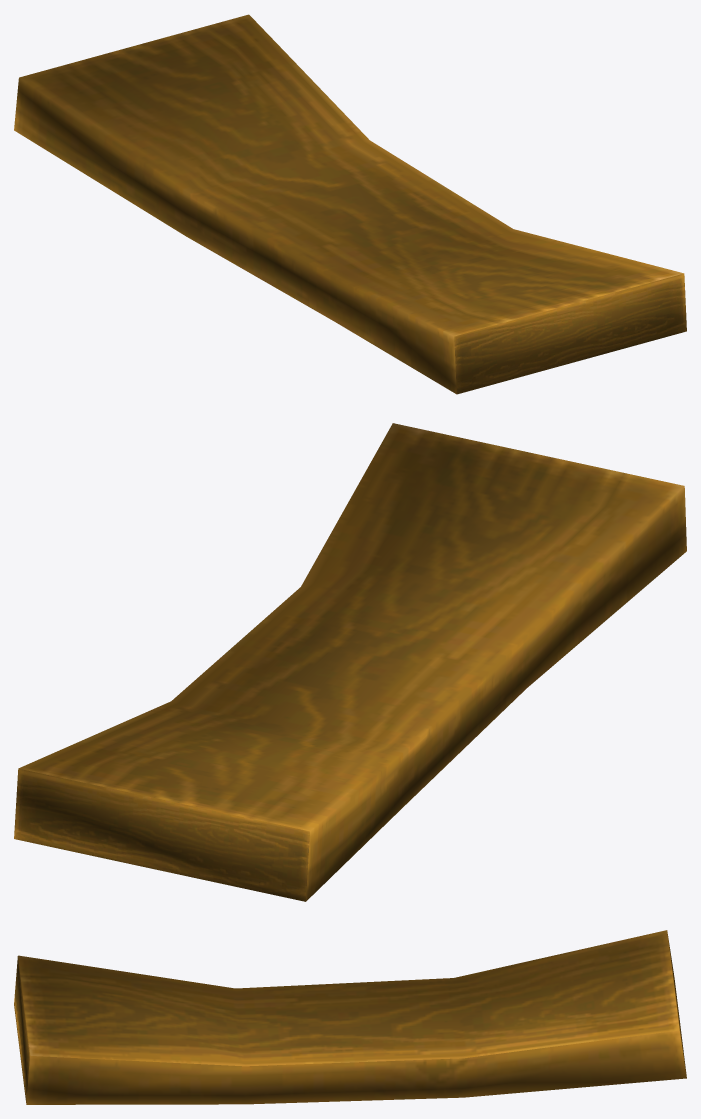
Rendered from HTOWN01_BAGENDBENCH.fbx.
3 views of the same model, one above another, from view 1: azimuth 30°, elevation 25°; view 2: azimuth 150°, elevation 25°; view 3: azimuth 270°, elevation 25° (orthographic). The views are drawn at different scales.
Parts seen in each view (by area): view 1: HTOWN01_BAGENDBENCH; view 2: HTOWN01_BAGENDBENCH; view 3: HTOWN01_BAGENDBENCH.
Part boxes in pixels (x1,y1,x2,y2): HTOWN01_BAGENDBENCH: (14,14,686,394); HTOWN01_BAGENDBENCH: (14,423,686,901); HTOWN01_BAGENDBENCH: (14,930,686,1104).
Size of the model in its own units: 8543 by 2174 by 19201.
Materials: 1 (1 with a texture image).
